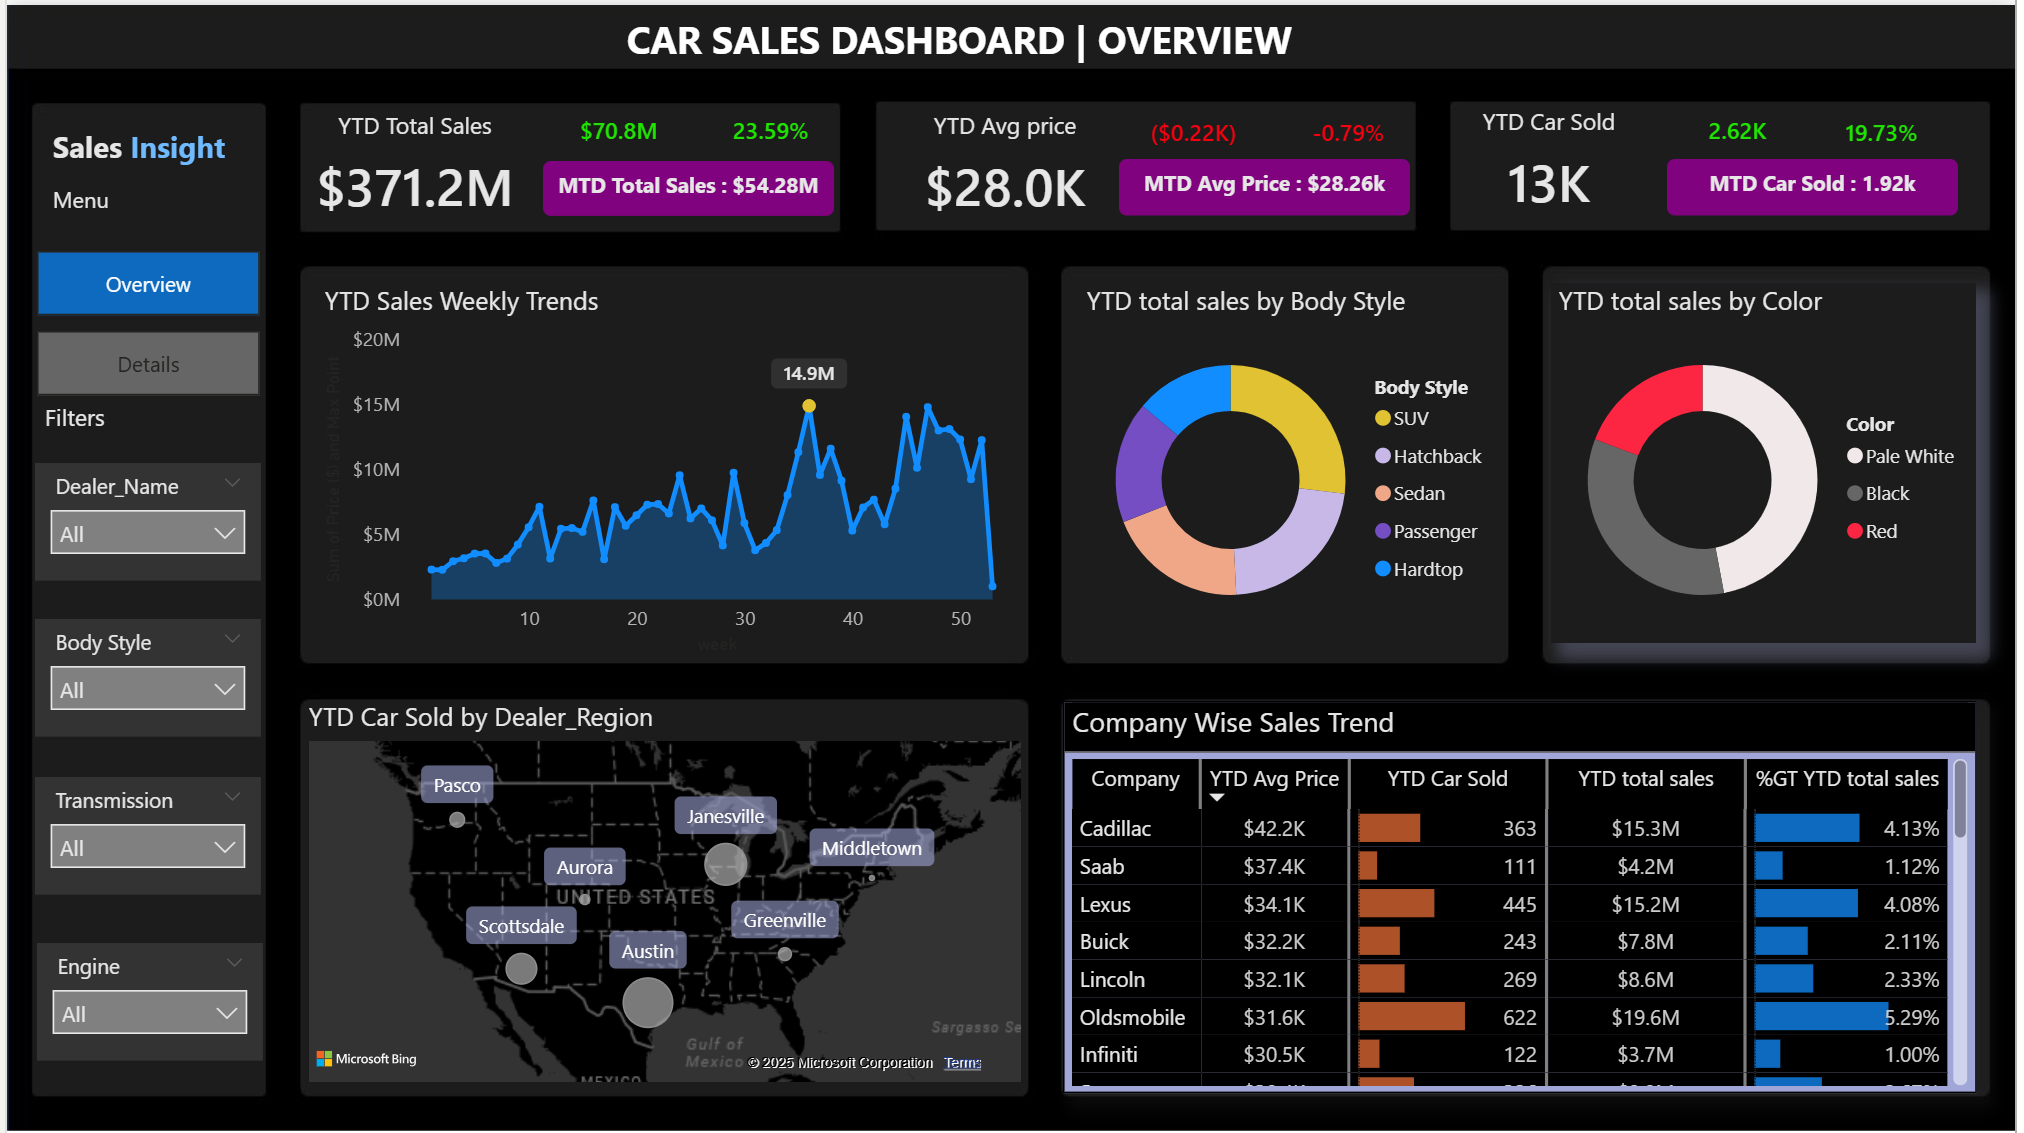

What the dashboard file says about the page in this screenshot:
{"tool":"powerbi","page":{"name":"Overview","canvas":[1280,720],"ordinal":0},"visuals":[{"type":"card","title":"YTD Total Sales","fields":{"Values":["car_data.YTD total sales"]},"box":[170.6,66,178.6,78.5],"z":0},{"type":"card","fields":{"Values":["car_data.Sales Difference"]},"box":[329.9,59.1,119.4,46.6],"z":1000},{"type":"card","fields":{"Values":["car_data.YOY Sales Growth"]},"box":[427.7,59.1,119.4,46.6],"z":2000},{"type":"card","fields":{"Values":["car_data.MTD KPI"]},"box":[341.4,99.5,185.3,35.2],"z":3000},{"type":"card","title":"YTD Avg price","fields":{"Values":["car_data.YTD Avg Price"]},"box":[547.5,66.5,178.6,78.2],"z":4000},{"type":"card","fields":{"Values":["car_data.Avg Price Diff"]},"box":[696,59.5,120.4,47],"z":5000},{"type":"card","fields":{"Values":["car_data.YOY Avg Price Growth"]},"box":[795.7,59.5,119,47],"z":6000},{"type":"card","fields":{"Values":["car_data.MTD Avg Price KPI"]},"box":[708.5,98.2,185.4,36],"z":7000},{"type":"card","title":"YTD Car Sold","fields":{"Values":["car_data.YTD Car Sold"]},"box":[893.9,63.7,178.5,78.9],"z":8000},{"type":"card","fields":{"Values":["car_data.Cars Sold Diff"]},"box":[1043.4,58.1,120.4,47],"z":9000},{"type":"card","fields":{"Values":["car_data.YOY Car Sold Growth"]},"box":[1134.7,59.5,120.4,47],"z":10000},{"type":"card","fields":{"Values":["car_data.MTD Car Sold KPI"]},"box":[1058.6,98.2,185.4,36],"z":11000},{"type":"areaChart","title":"YTD Sales Weekly Trends","fields":{"Category":["calender table.week"],"Y":["Sum(car_data.Price ($))","car_data.Max Point"]},"box":[197.9,177.1,452.5,240.8],"z":12000},{"type":"donutChart","fields":{"Category":["car_data.Body Style"],"Y":["car_data.YTD total sales"]},"box":[683.6,177.1,271.2,229.7],"z":13000},{"type":"donutChart","fields":{"Y":["car_data.YTD total sales"],"Category":["car_data.Color"]},"box":[983.9,177.1,271.2,229.7],"z":14000},{"type":"map","fields":{"Category":["car_data.Dealer_Region"],"Size":["car_data.YTD Car Sold"]},"box":[186.8,442.8,463.6,249.1],"z":15000},{"type":"pivotTable","title":"Company Wise Sales Trend","fields":{"Rows":["car_data.Company"],"Values":["car_data.YTD Avg Price","car_data.YTD Car Sold","car_data.YTD total sales1","car_data.YTD total sales"]},"box":[673.8,443.8,582.5,250],"z":16000},{"type":"textbox","box":[390,0,452.5,46.2],"z":17000},{"type":"slicer","fields":{"Values":["car_data.Body Style"]},"box":[17.5,391.5,143.8,75],"z":18000},{"type":"slicer","fields":{"Values":["car_data.Dealer_Name"]},"box":[17.5,291.5,143.8,75],"z":19000},{"type":"slicer","fields":{"Values":["car_data.Transmission"]},"box":[17.5,491.5,143.8,75],"z":20000},{"type":"slicer","fields":{"Values":["car_data.Engine"]},"box":[18.8,597.8,143.8,75],"z":21000},{"type":"textbox","box":[18.8,247.5,77.5,35],"z":22000},{"type":"textbox","box":[23.8,72.5,138.8,35],"z":22001},{"type":"textbox","box":[23.8,110,86.2,35],"z":22002},{"type":"pageNavigator","box":[18.8,156.2,142.5,92.5],"z":22003}]}

Visuals, with their boxes in screenshot pixels (x1, y1, x2, y2), scaled from the page's 1280x720 canvas onto the 2024x1133 screenshot:
"YTD Total Sales" card: Rect(270, 104, 552, 227)
card - car_data.Sales Difference: Rect(522, 93, 710, 166)
card - car_data.YOY Sales Growth: Rect(676, 93, 865, 166)
card - car_data.MTD KPI: Rect(540, 157, 833, 212)
"YTD Avg price" card: Rect(866, 105, 1148, 228)
card - car_data.Avg Price Diff: Rect(1101, 94, 1291, 168)
card - car_data.YOY Avg Price Growth: Rect(1258, 94, 1446, 168)
card - car_data.MTD Avg Price KPI: Rect(1120, 155, 1413, 211)
"YTD Car Sold" card: Rect(1413, 100, 1696, 224)
card - car_data.Cars Sold Diff: Rect(1650, 91, 1840, 165)
card - car_data.YOY Car Sold Growth: Rect(1794, 94, 1985, 168)
card - car_data.MTD Car Sold KPI: Rect(1674, 155, 1967, 211)
"YTD Sales Weekly Trends" areaChart: Rect(313, 279, 1028, 658)
donutChart - car_data.Body Style x car_data.YTD total sales: Rect(1081, 279, 1510, 640)
donutChart - car_data.YTD total sales x car_data.Color: Rect(1556, 279, 1985, 640)
map - car_data.Dealer_Region x car_data.YTD Car Sold: Rect(295, 697, 1028, 1089)
"Company Wise Sales Trend" pivotTable: Rect(1065, 698, 1987, 1092)
textbox: Rect(617, 0, 1332, 73)
slicer - car_data.Body Style: Rect(28, 616, 255, 734)
slicer - car_data.Dealer_Name: Rect(28, 459, 255, 577)
slicer - car_data.Transmission: Rect(28, 773, 255, 891)
slicer - car_data.Engine: Rect(30, 941, 257, 1059)
textbox: Rect(30, 389, 152, 445)
textbox: Rect(38, 114, 257, 169)
textbox: Rect(38, 173, 174, 228)
pageNavigator: Rect(30, 246, 255, 391)
